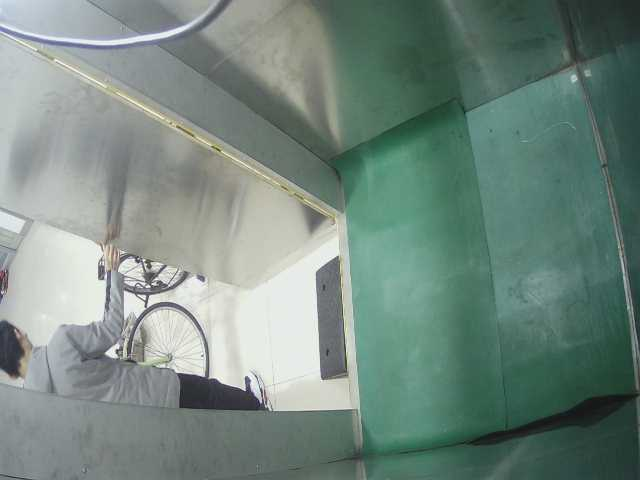bicycle: (110, 303, 218, 381), (103, 249, 209, 298)
person: (1, 275, 275, 413)
